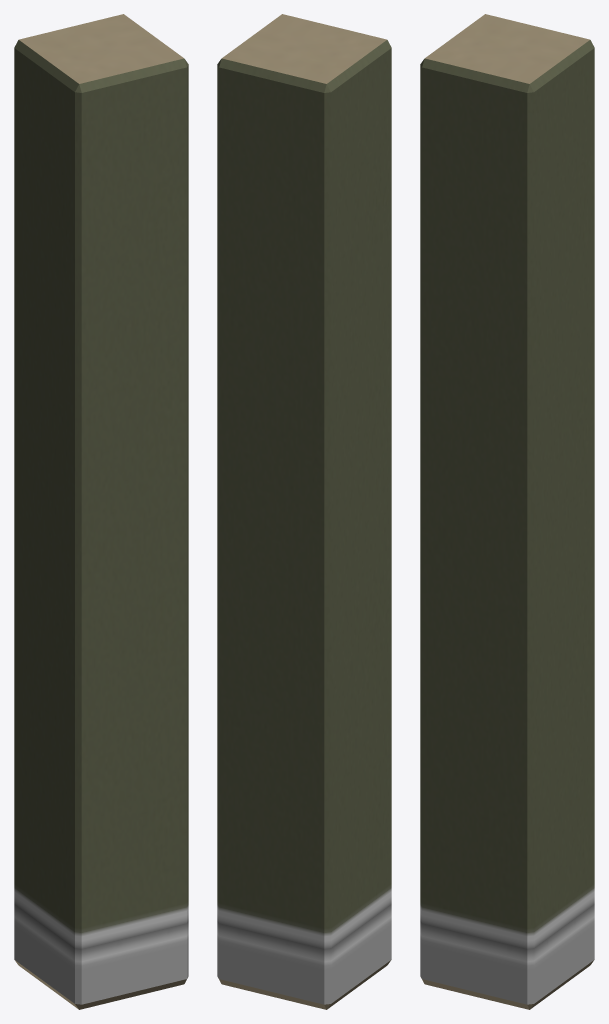
File: column2_5.fbx
3 views of the same model, side by side, from view 1: azimuth 30°, elevation 25°; view 2: azimuth 150°, elevation 25°; view 3: azimuth 330°, elevation 25° (orthographic).
Parts seen in each view (by area): view 1: column2_d; view 2: column2_d; view 3: column2_d.
Boxes of the visible parts, box(x1,y1,x2,y2) form: column2_d: box(14, 14, 188, 1009); column2_d: box(217, 14, 391, 1009); column2_d: box(420, 14, 594, 1009).
Size of the model in its own units: 52 by 404 by 52.
